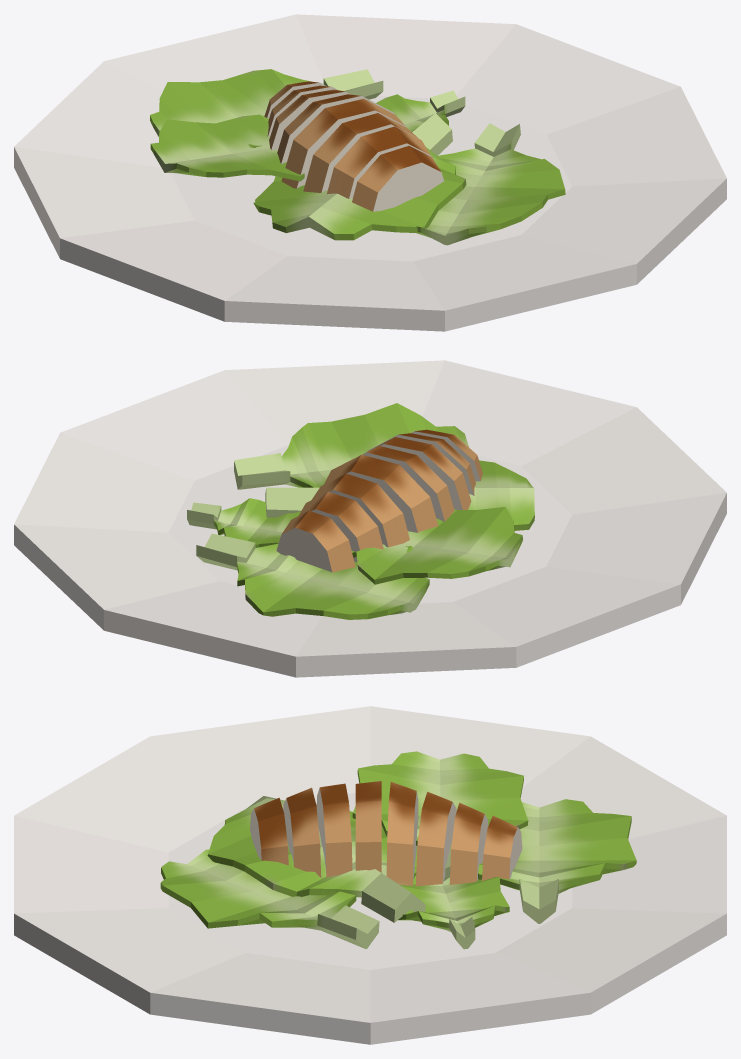
File: salad.fbx
3 views of the same model, one above another, from view 1: azimuth 30°, elevation 25°; view 2: azimuth 150°, elevation 25°; view 3: azimuth 270°, elevation 25° (orthographic). The views are drawn at different scales.
Visible parts, largest first — view 1: chicken_salad; view 2: chicken_salad; view 3: chicken_salad.
Part boxes in pixels (x1,y1,x2,y2): chicken_salad: (14, 14, 726, 331); chicken_salad: (14, 360, 726, 677); chicken_salad: (14, 706, 726, 1044).
Bounding box in the file's own units: 2.96 × 0.4947 × 2.82.
